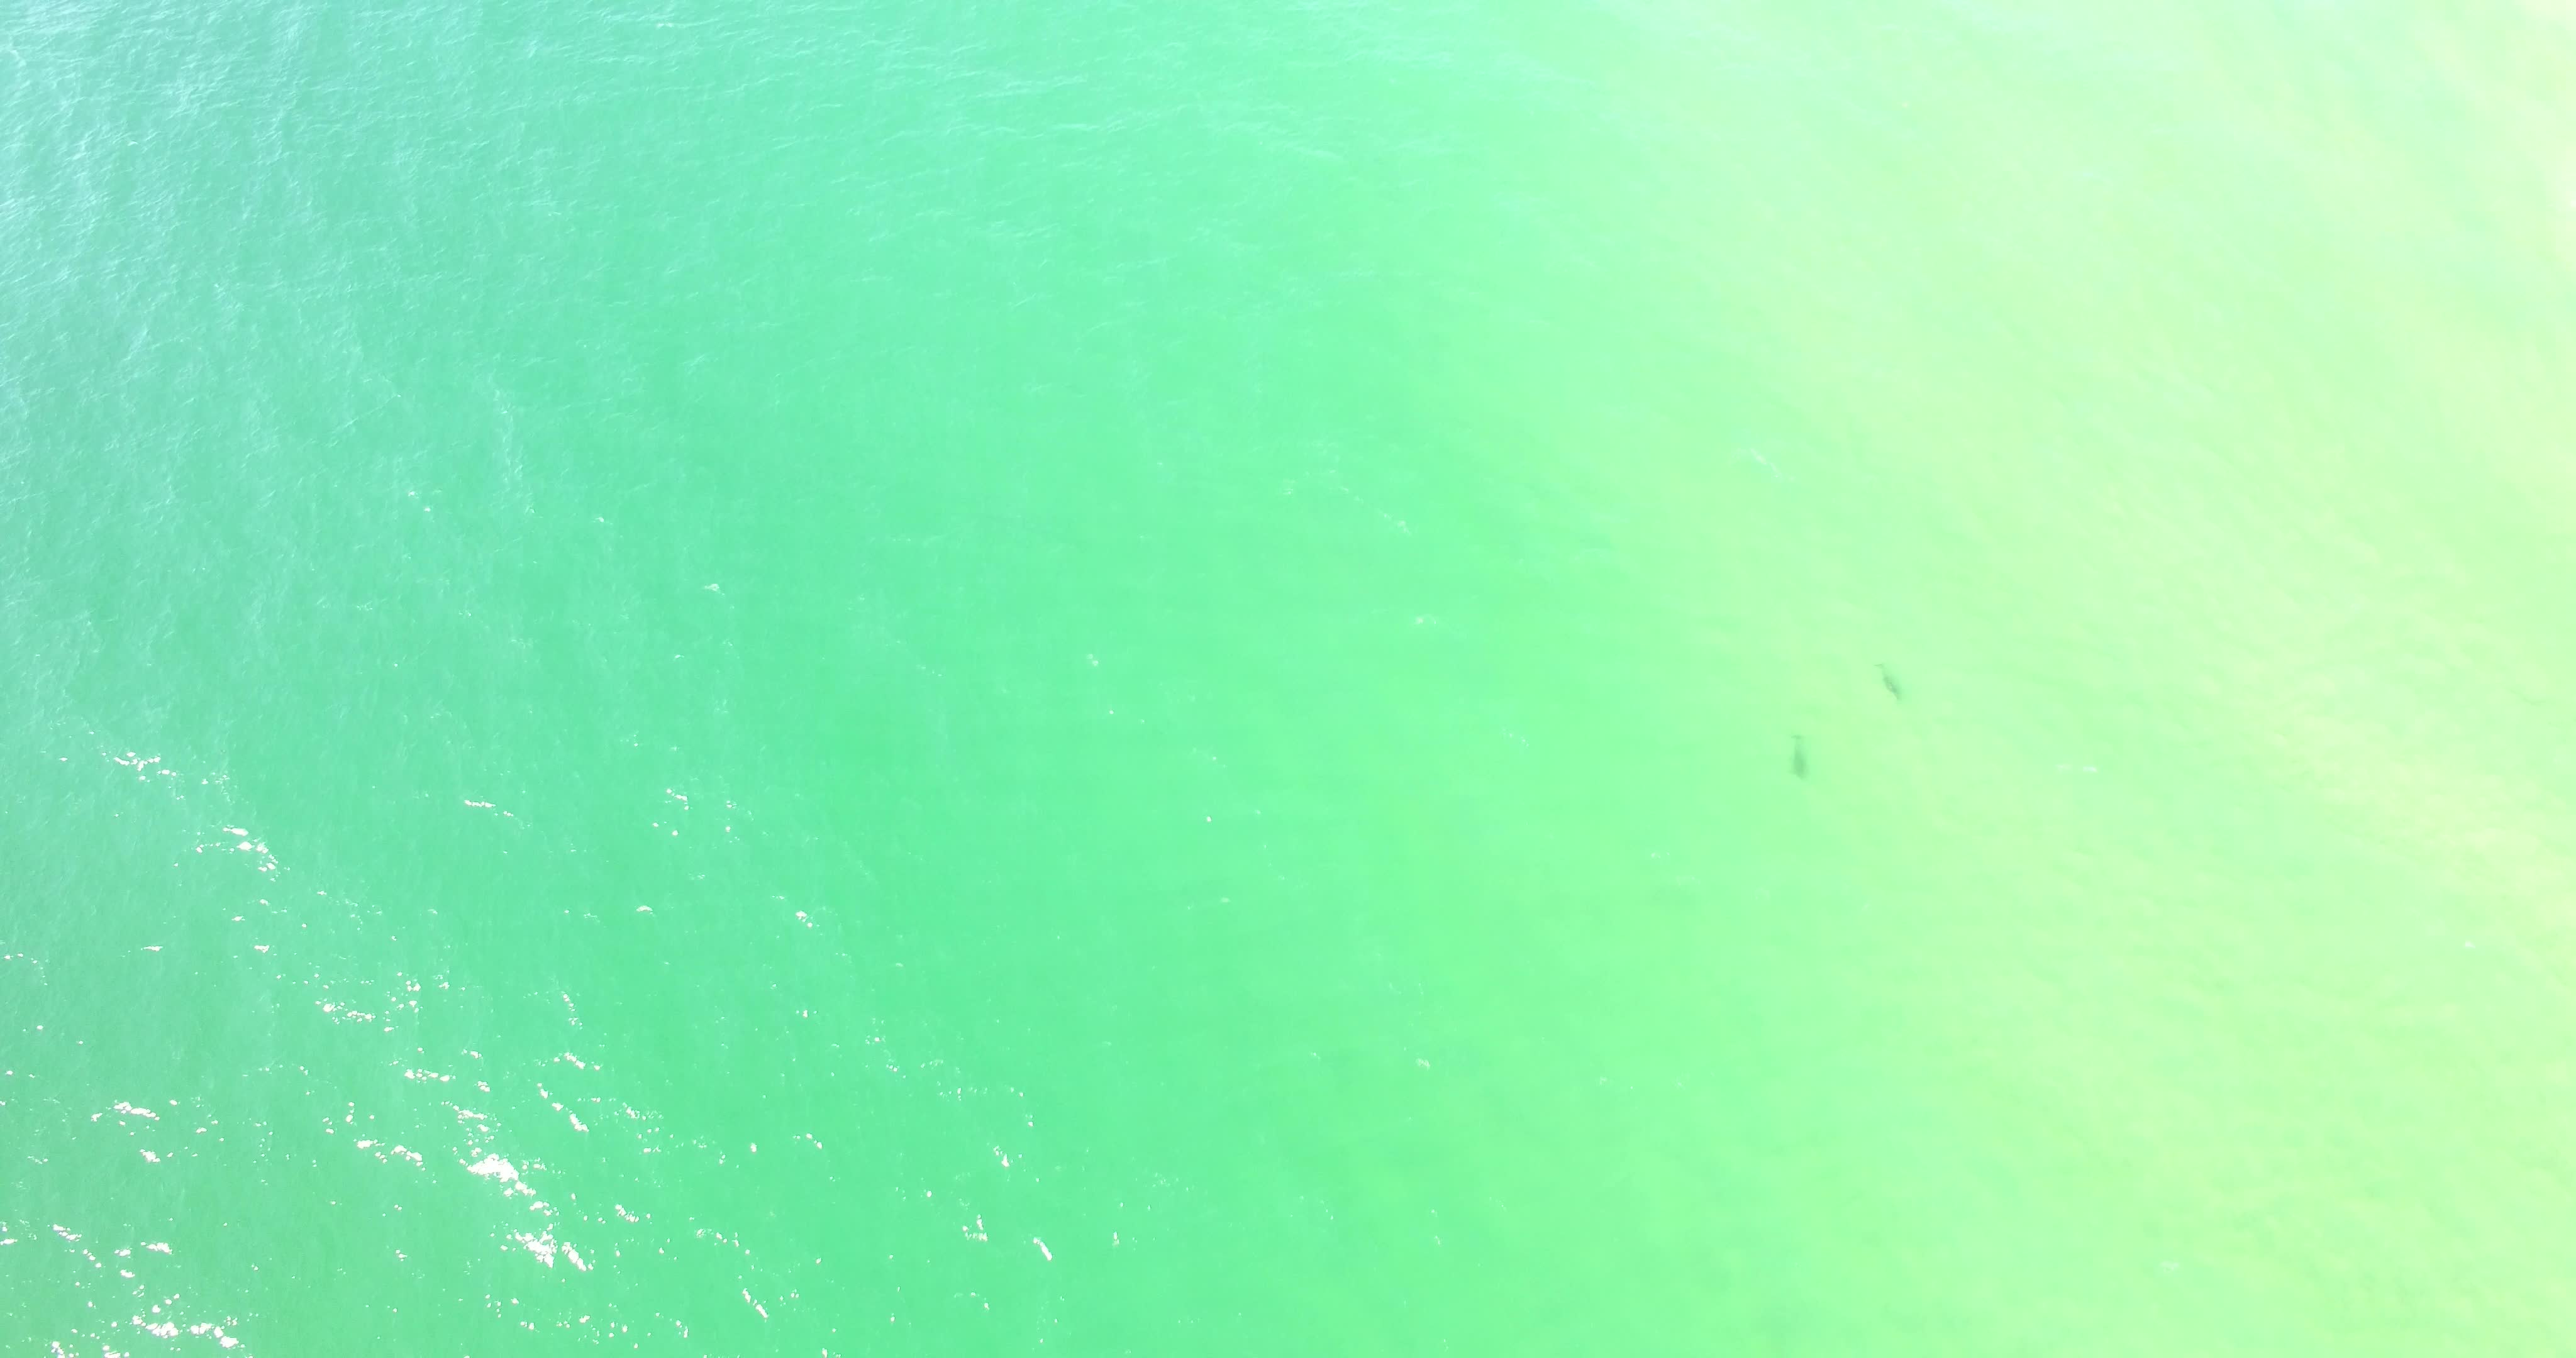dolphin: (1857, 646, 1913, 717), (1772, 714, 1823, 789)
